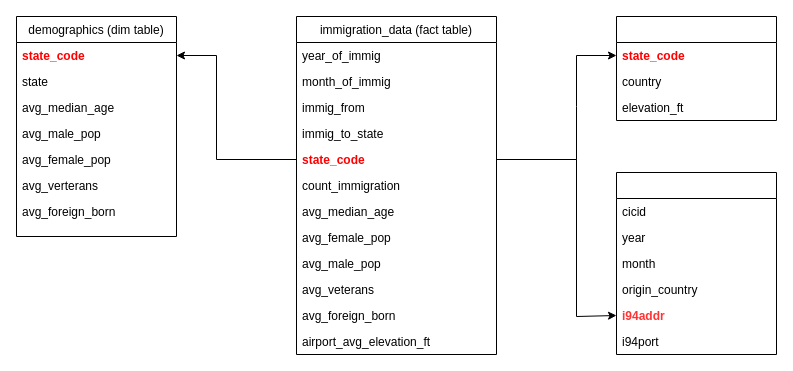
Some shapes in this 793 by 371 pixel diagram are drawn without their labels. Here are the shapes that lost their labels. From the top down, the box of each, then its label:
(616, 16, 776, 120): airport_codes (dim table)
(616, 172, 776, 354): immigration_data (dim table)
